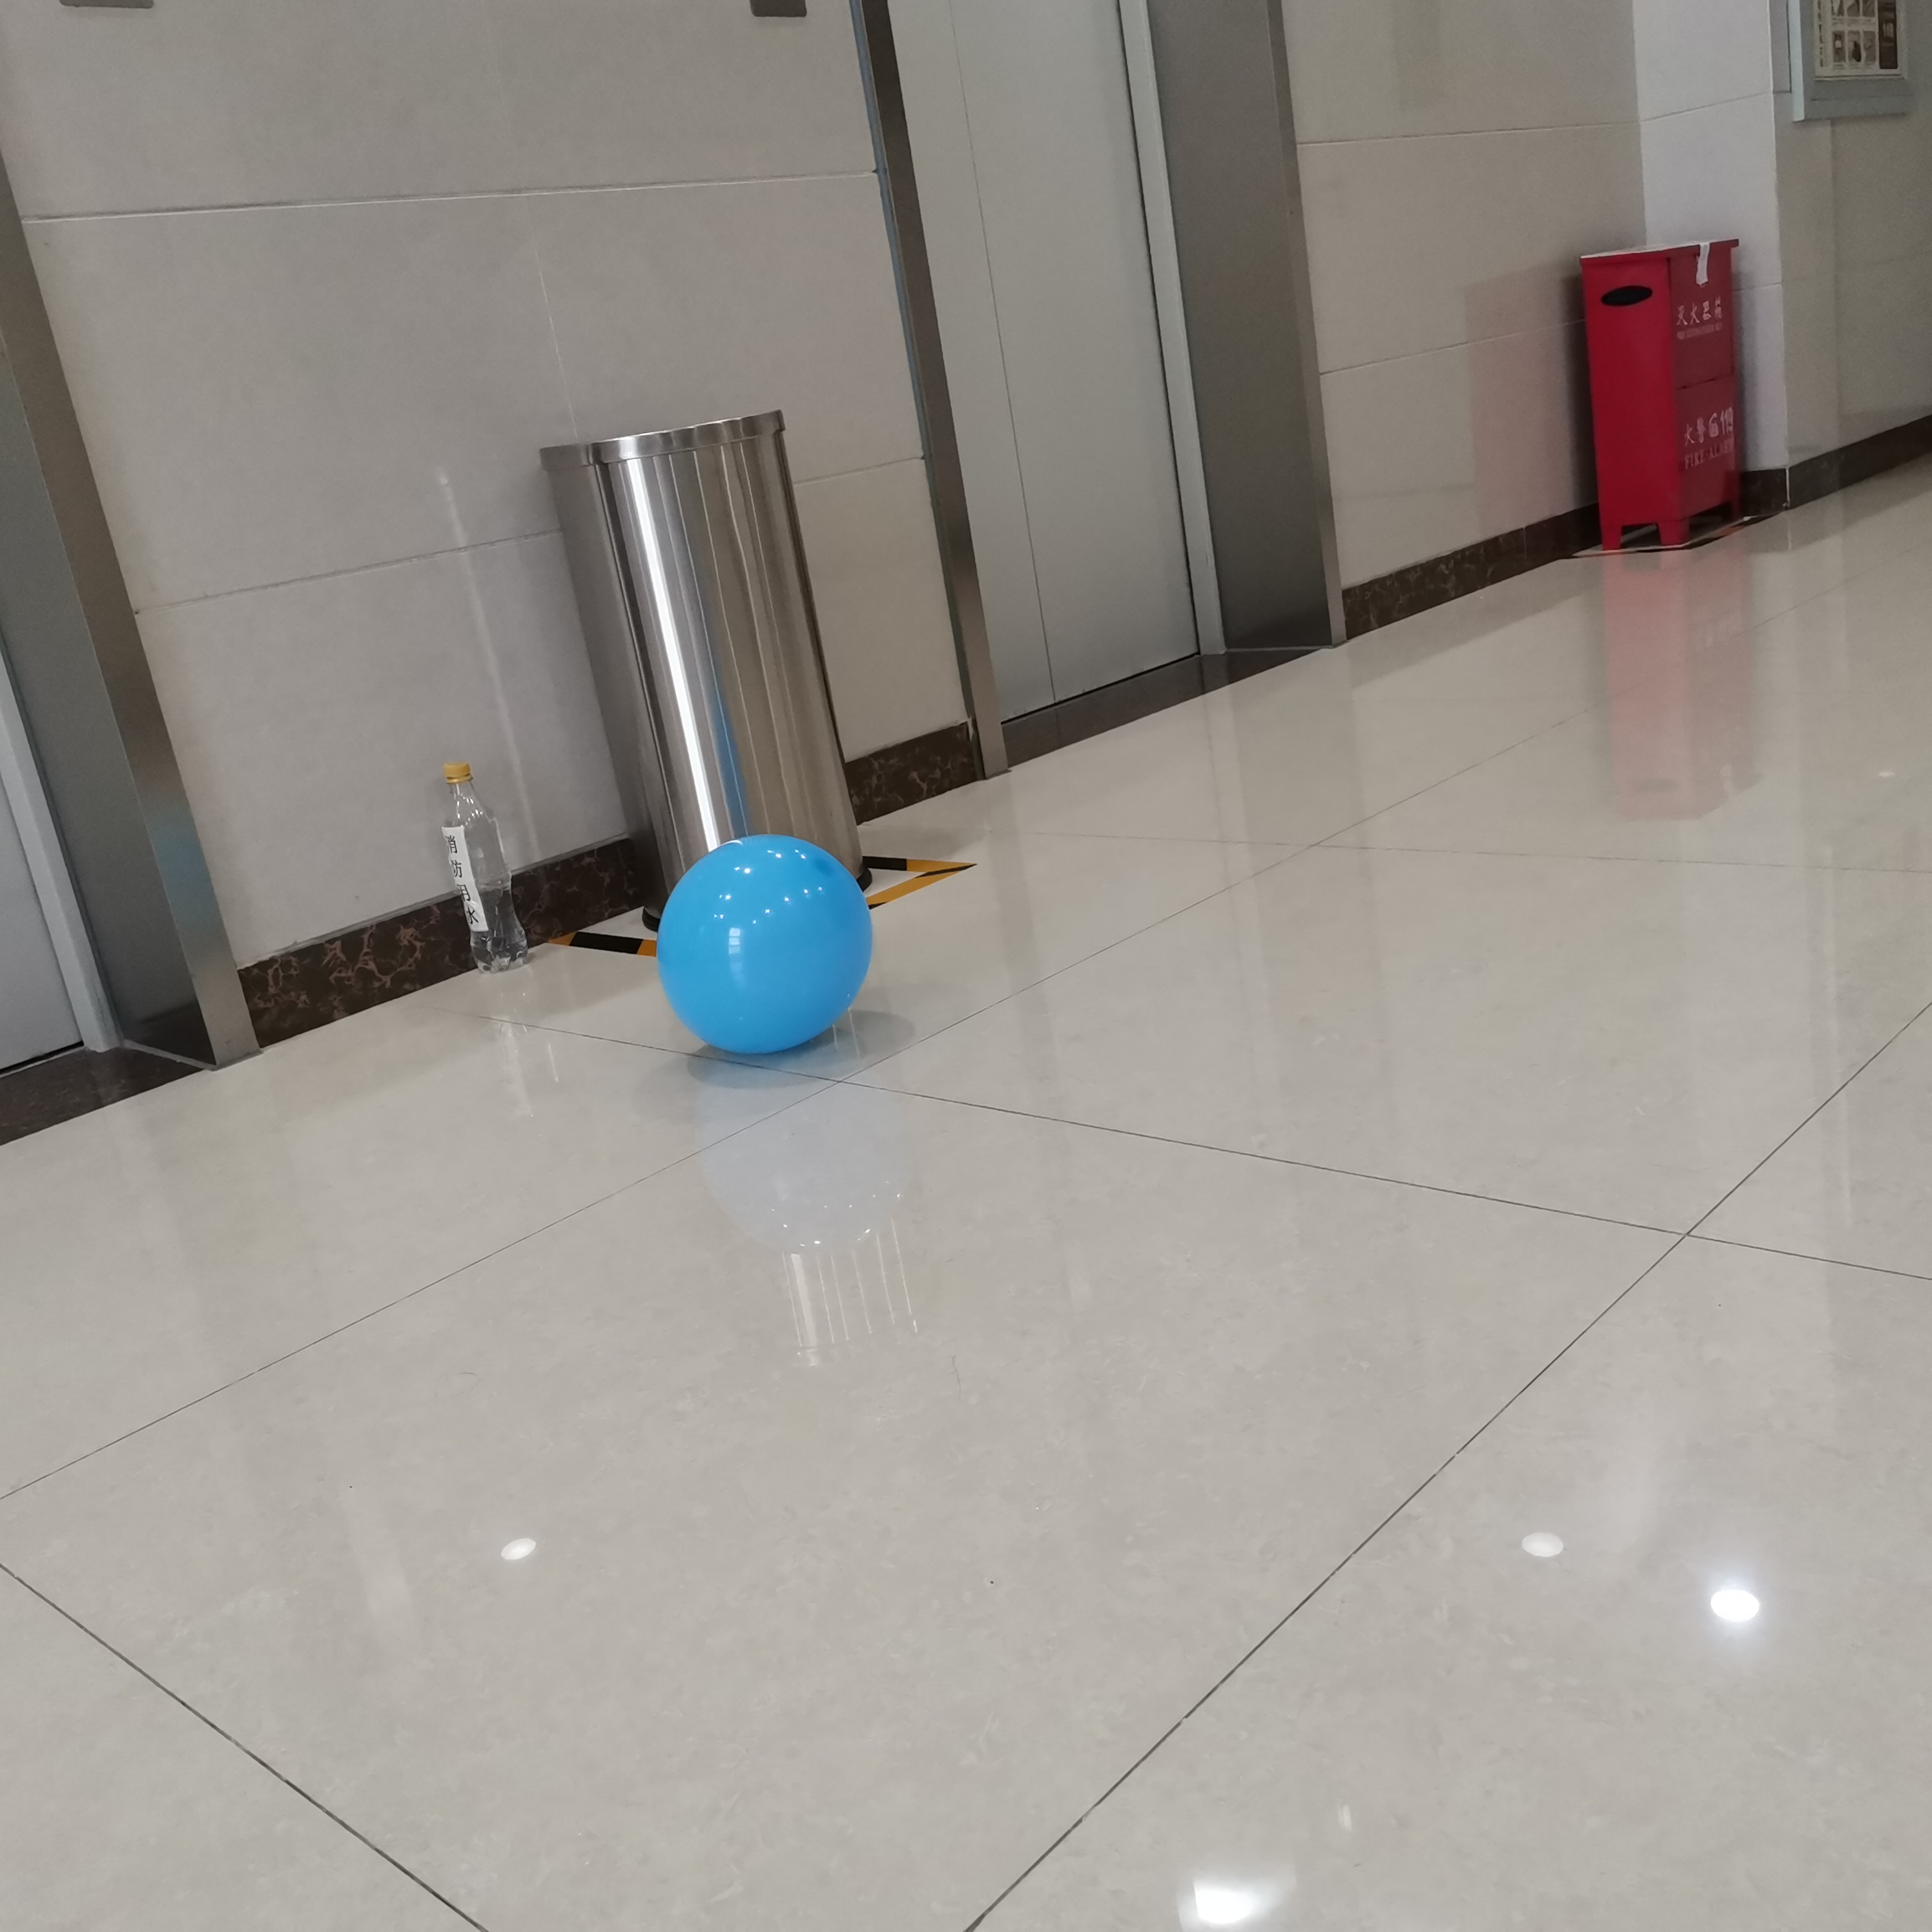balloon: (656, 832, 878, 1058)
